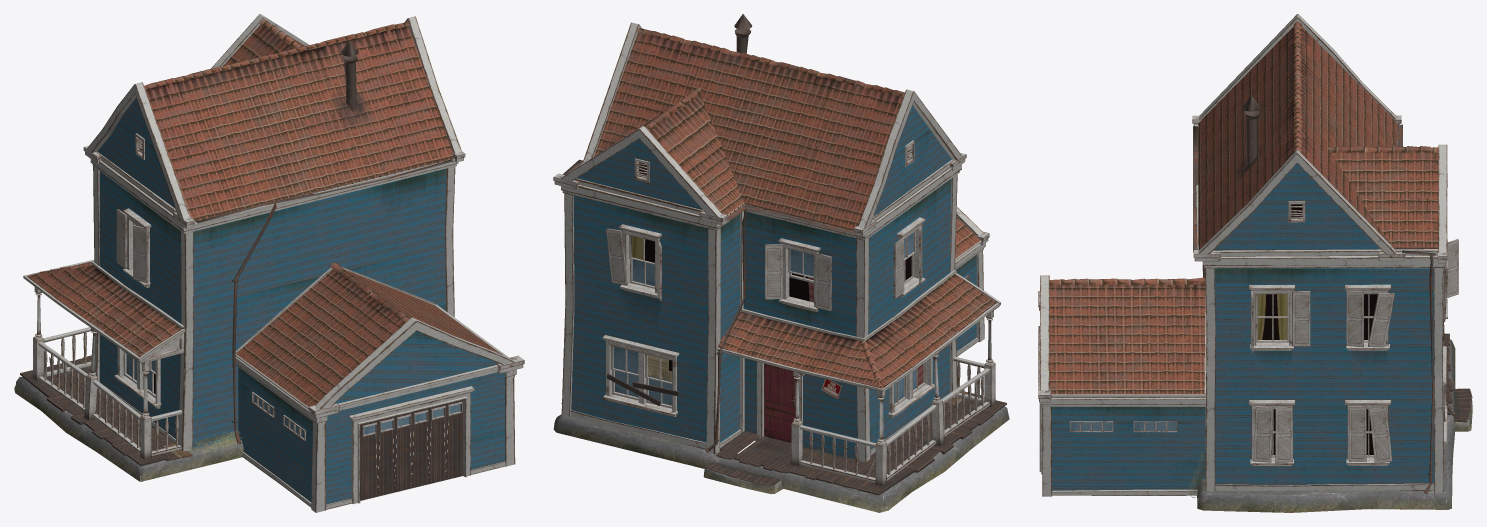
Rendered from casa_p1.gltf.
3 views of the same model, side by side, from view 1: azimuth 30°, elevation 25°; view 2: azimuth 150°, elevation 25°; view 3: azimuth 270°, elevation 25° (orthographic).
Parts seen in each view (by area): view 1: casa_p1; view 2: casa_p1; view 3: casa_p1.
Boxes of the visible parts, <box> form: casa_p1: <box>14,14,524,512</box>; casa_p1: <box>553,14,1009,512</box>; casa_p1: <box>1038,14,1472,512</box>.
Size of the model in its own units: 8.21 by 8.48 by 8.94.
2 materials, 2 textured.
